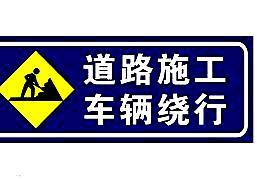sign: (3, 39, 250, 138)
